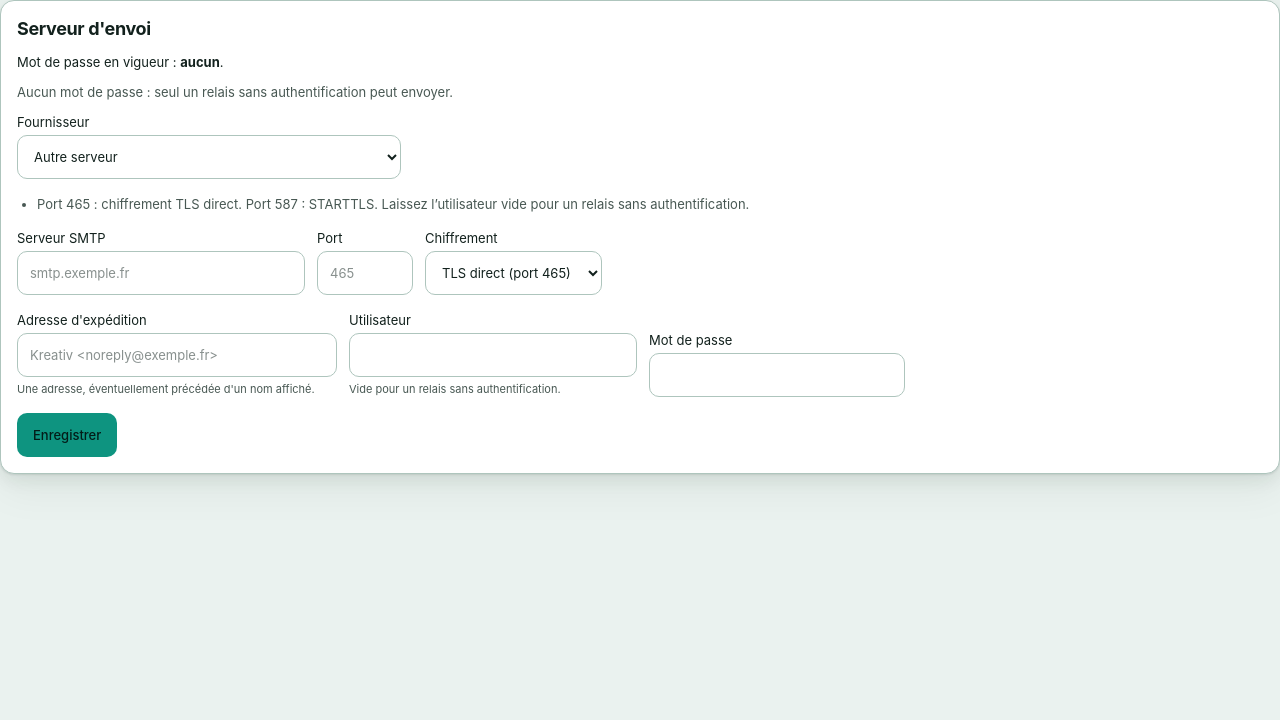
Test: ReglagesForm (courriel) › envoie la saisie ; le mot de passe repart vide et masqué
The width and height of the screenshot is (1280, 720).
Step 1. Type "mail.exemple.test" into the field labelled "Serveur SMTP" → (161, 273), box x1=17 y1=251 x2=305 y2=295
Step 2. Type "587" into the field labelled "Port" → (365, 273), box x1=317 y1=251 x2=413 y2=295
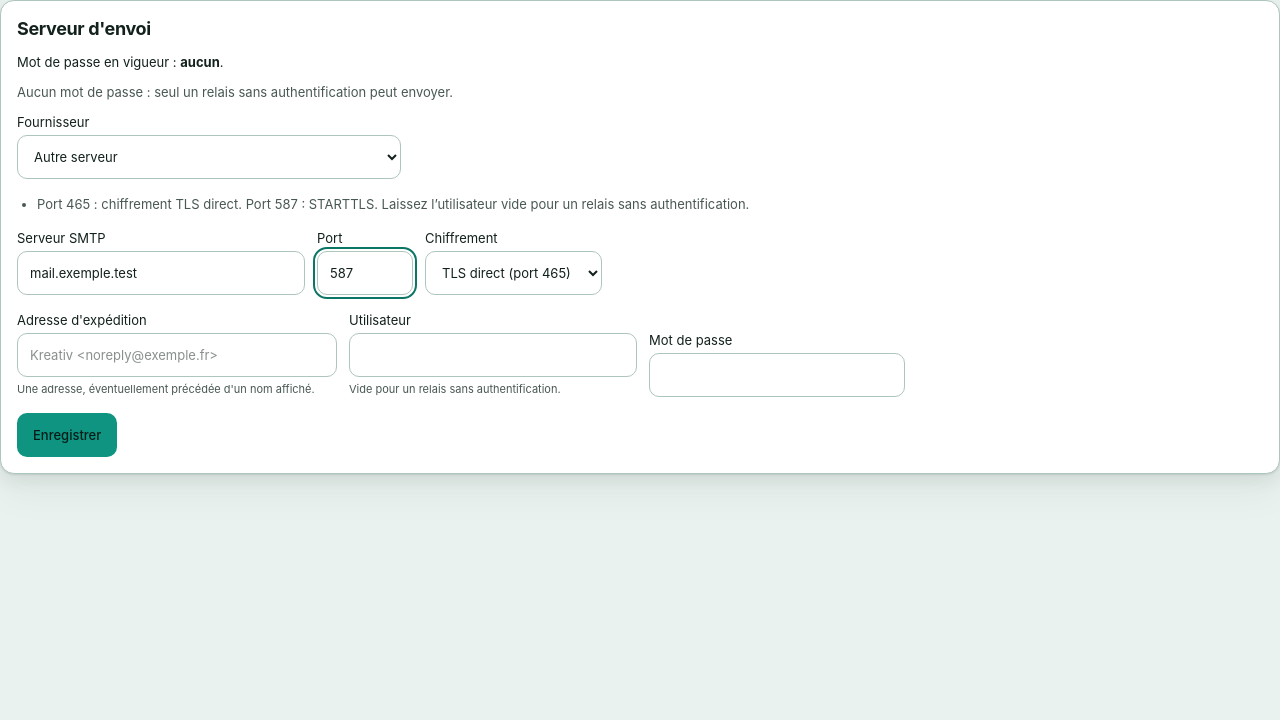
Step 3. Select "STARTTLS (port 587)" in the dropdown labelled "Chiffrement" → (514, 273), box x1=425 y1=251 x2=602 y2=295
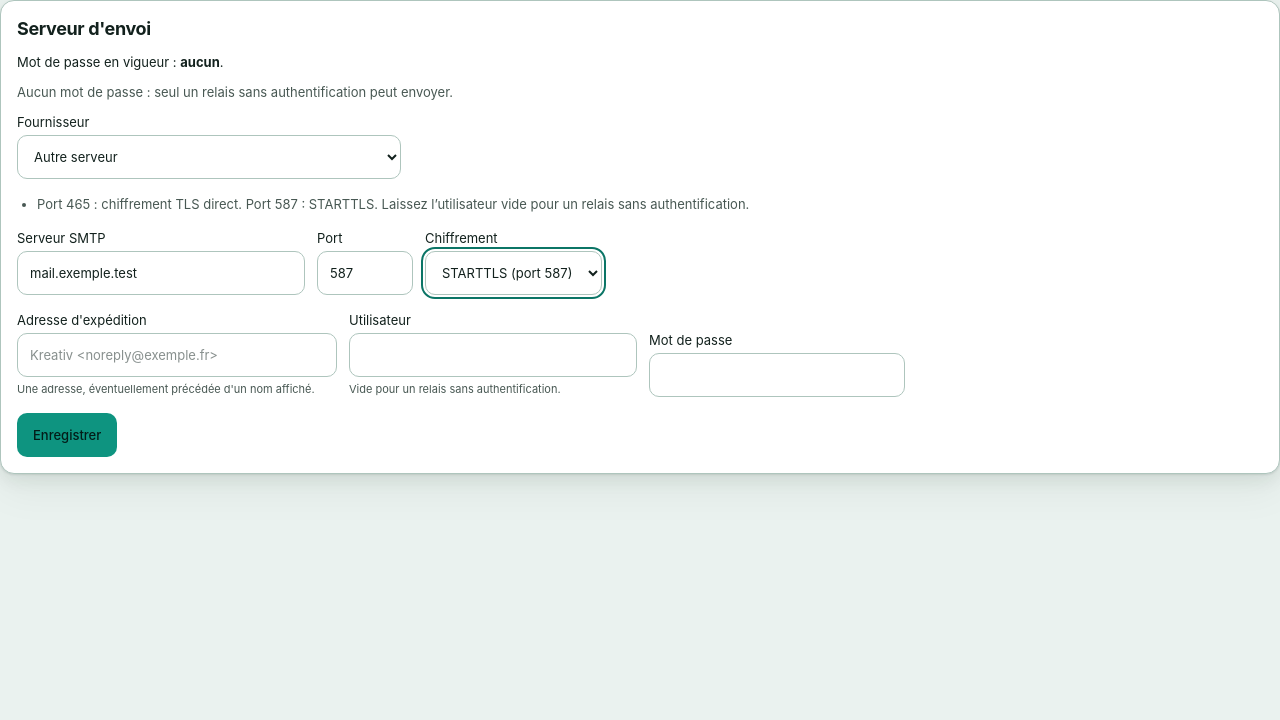
Step 4. Type "cra" into the field labelled "Utilisateur" → (493, 355), box x1=349 y1=333 x2=637 y2=377
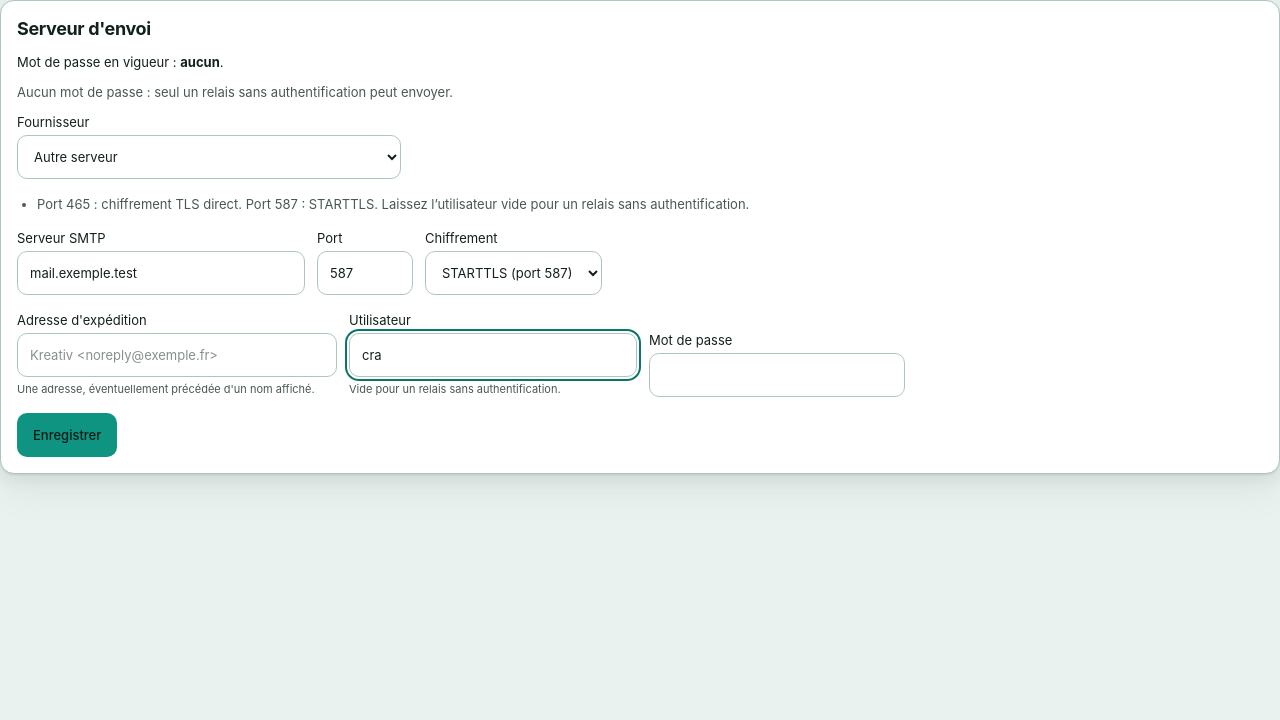
Step 5. Type "Kreativ <cra@exemple.test>" into the field labelled "Adresse d'expédition" → (177, 355), box x1=17 y1=333 x2=337 y2=377
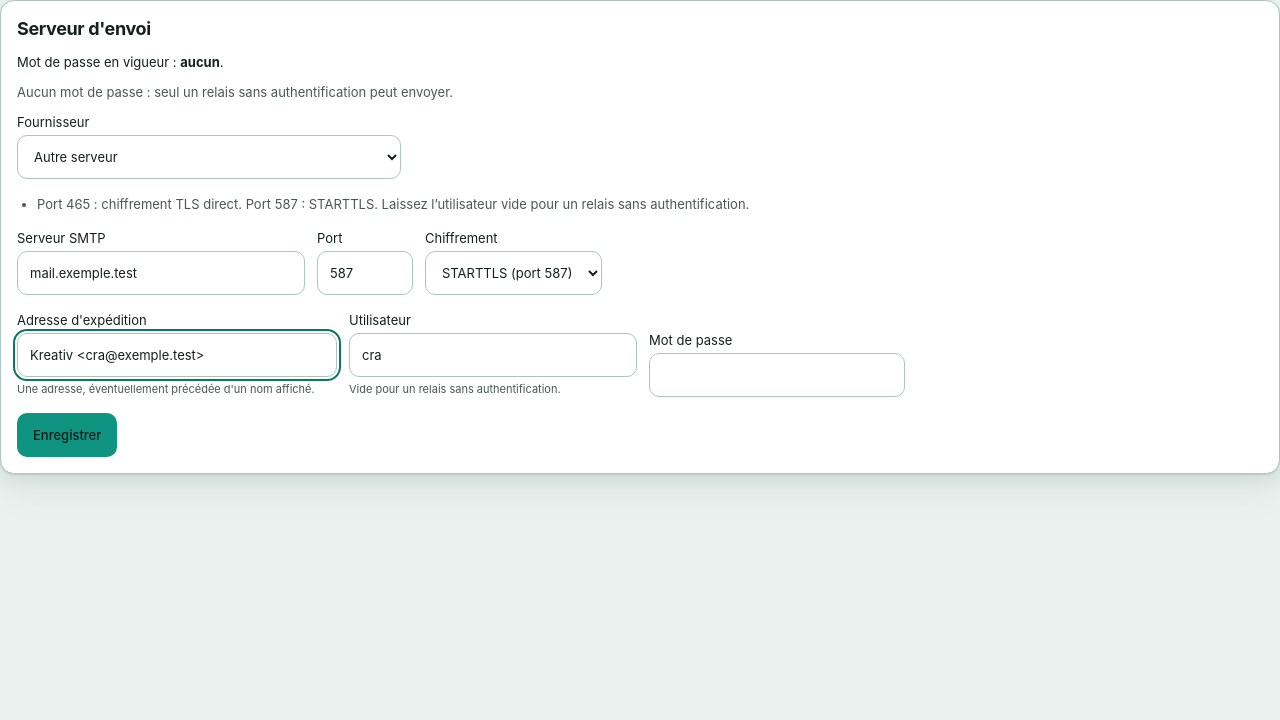
Step 6. Type "secret-de-test" into the password field labelled "Mot de passe" → (777, 375), box x1=649 y1=353 x2=905 y2=397
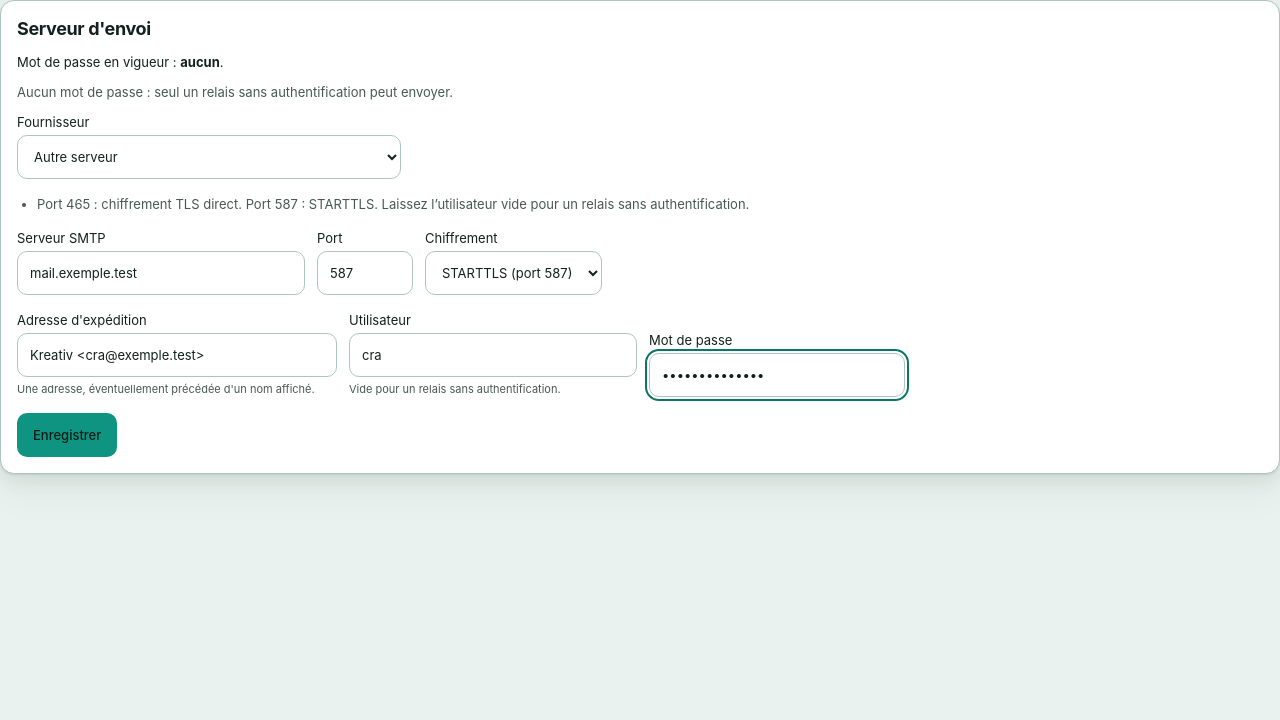
Step 7. Click the button "Enregistrer" → (67, 435), box x1=17 y1=413 x2=117 y2=457
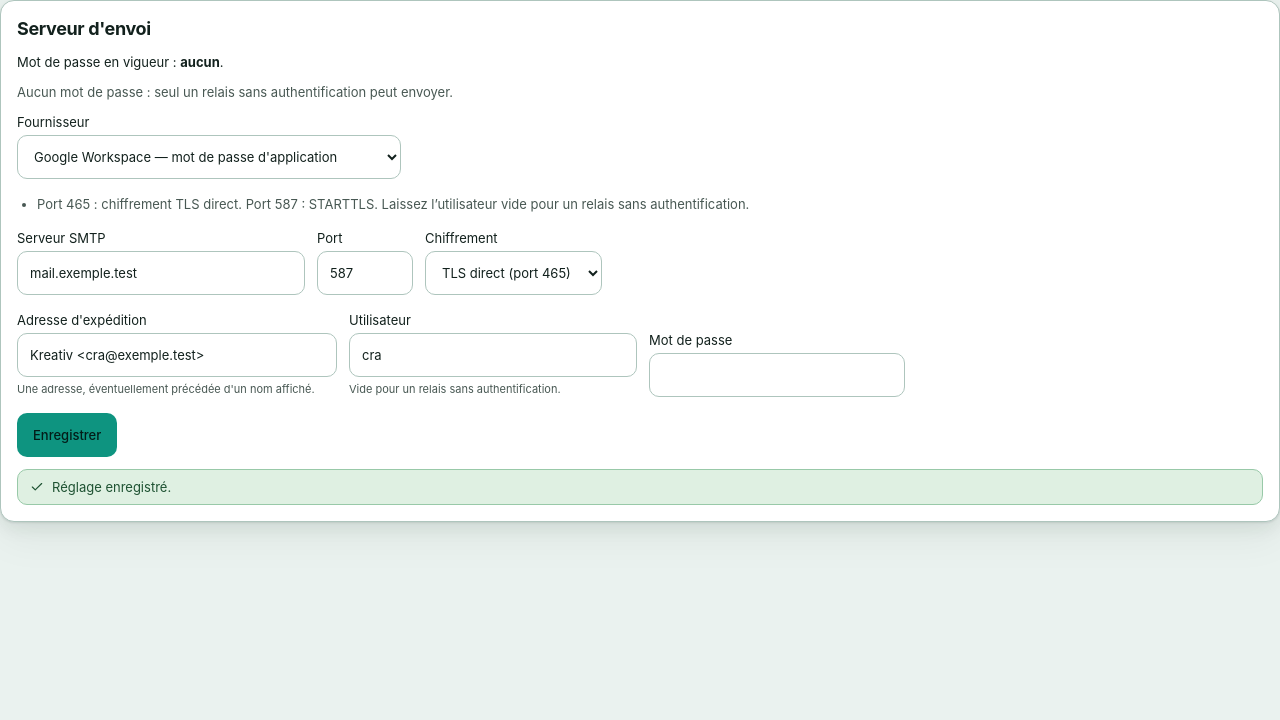
Expected: the message "Réglage enregistré." is shown, x1=17 y1=469 x2=1263 y2=505
